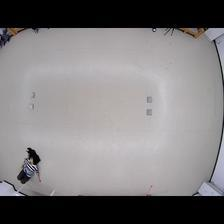fall: (16, 148, 41, 187)
